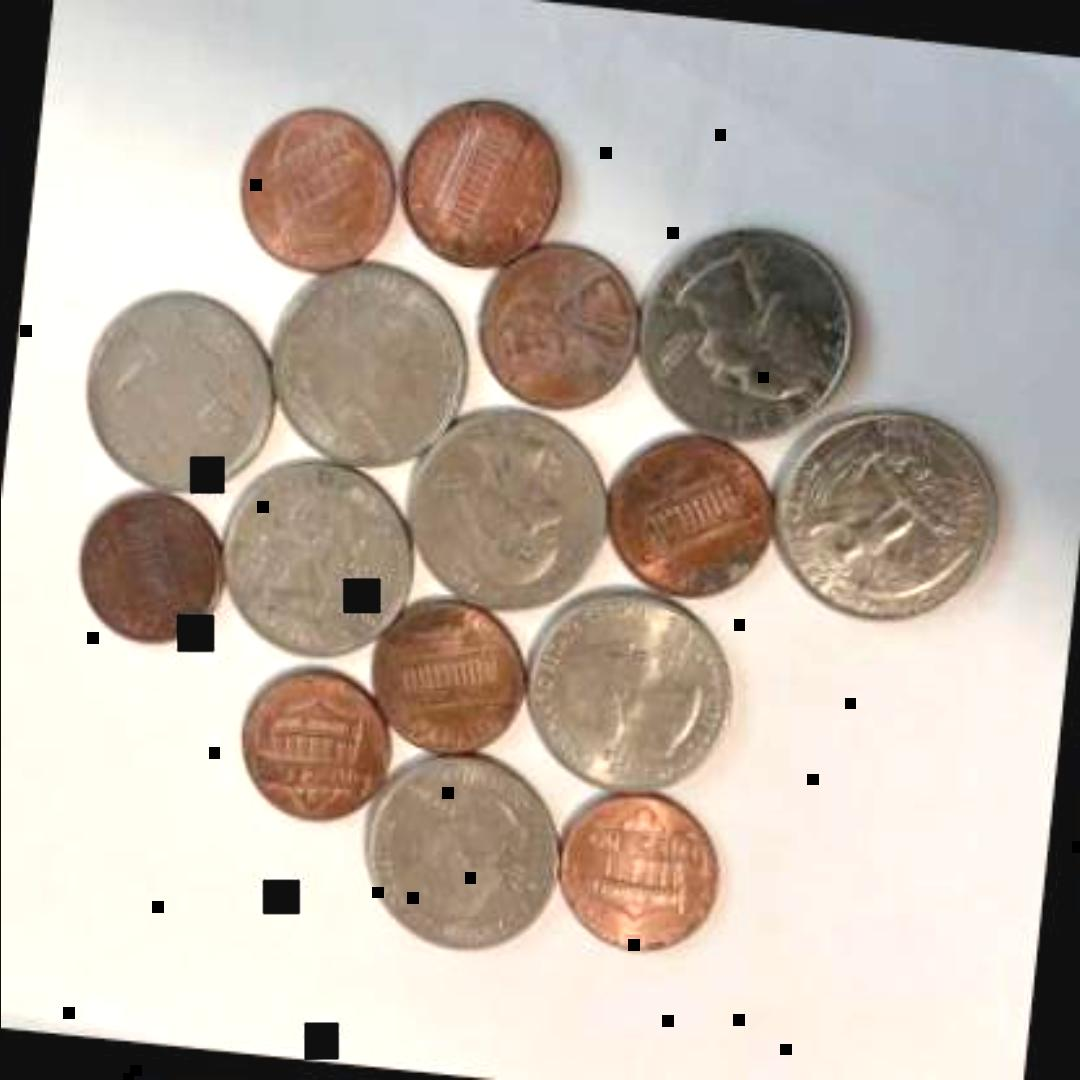Penny: (386, 87, 578, 279), (601, 419, 793, 611), (472, 228, 658, 425), (551, 785, 732, 956), (232, 102, 402, 278), (228, 657, 400, 825), (366, 588, 538, 754), (74, 480, 234, 646)
Quarter: (768, 394, 1017, 640), (628, 212, 868, 444), (514, 576, 746, 806), (258, 253, 490, 471), (397, 396, 628, 614), (399, 396, 617, 620), (74, 274, 282, 500), (353, 744, 571, 956), (216, 456, 420, 666)
